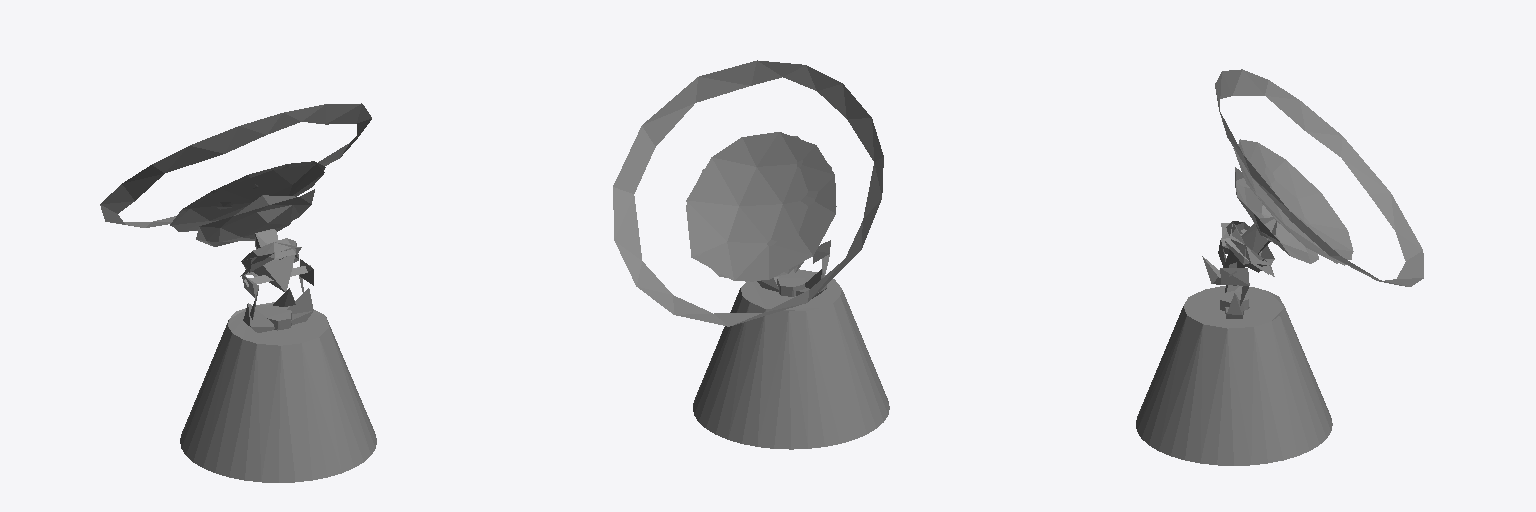
Rendered from rada.obj.
The picture shows the model from 3 angles: view 1: azimuth 30°, elevation 25°; view 2: azimuth 150°, elevation 25°; view 3: azimuth 270°, elevation 25°; orthographic projection.
Bounding box in the file's own units: 310 × 401 × 311.